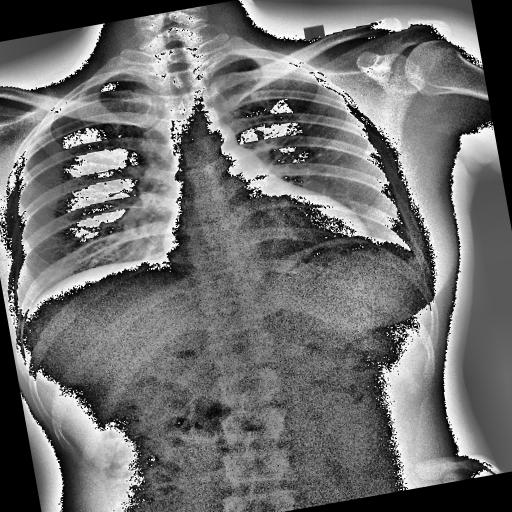3- Cardiomegaly: (158, 188, 374, 286), (158, 188, 372, 286), (160, 198, 370, 276)
